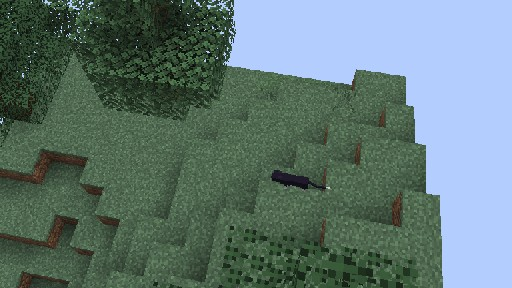cat: (270, 168, 329, 191)
